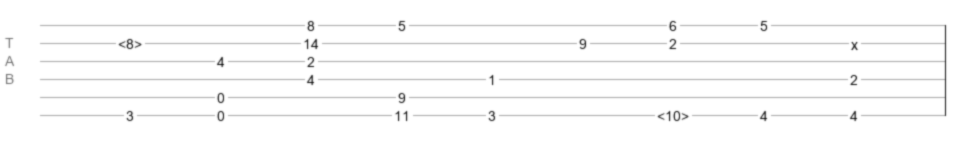0: (217, 90, 225, 100), (217, 108, 225, 118)
1: (488, 72, 496, 82)
11: (394, 108, 410, 118)
14: (303, 36, 319, 46)
2: (307, 54, 315, 64), (669, 36, 677, 46), (850, 72, 858, 82)
3: (126, 108, 134, 118), (488, 108, 496, 118)
4: (217, 54, 225, 64), (307, 72, 315, 82), (760, 108, 768, 118), (850, 108, 858, 118)
5: (398, 18, 406, 28), (760, 18, 768, 28)
6: (669, 18, 677, 28)
8: (307, 18, 315, 28)
9: (398, 90, 406, 100), (579, 36, 587, 46)
harmonic: (657, 108, 689, 118), (118, 36, 142, 46)
x: (851, 37, 858, 45)
